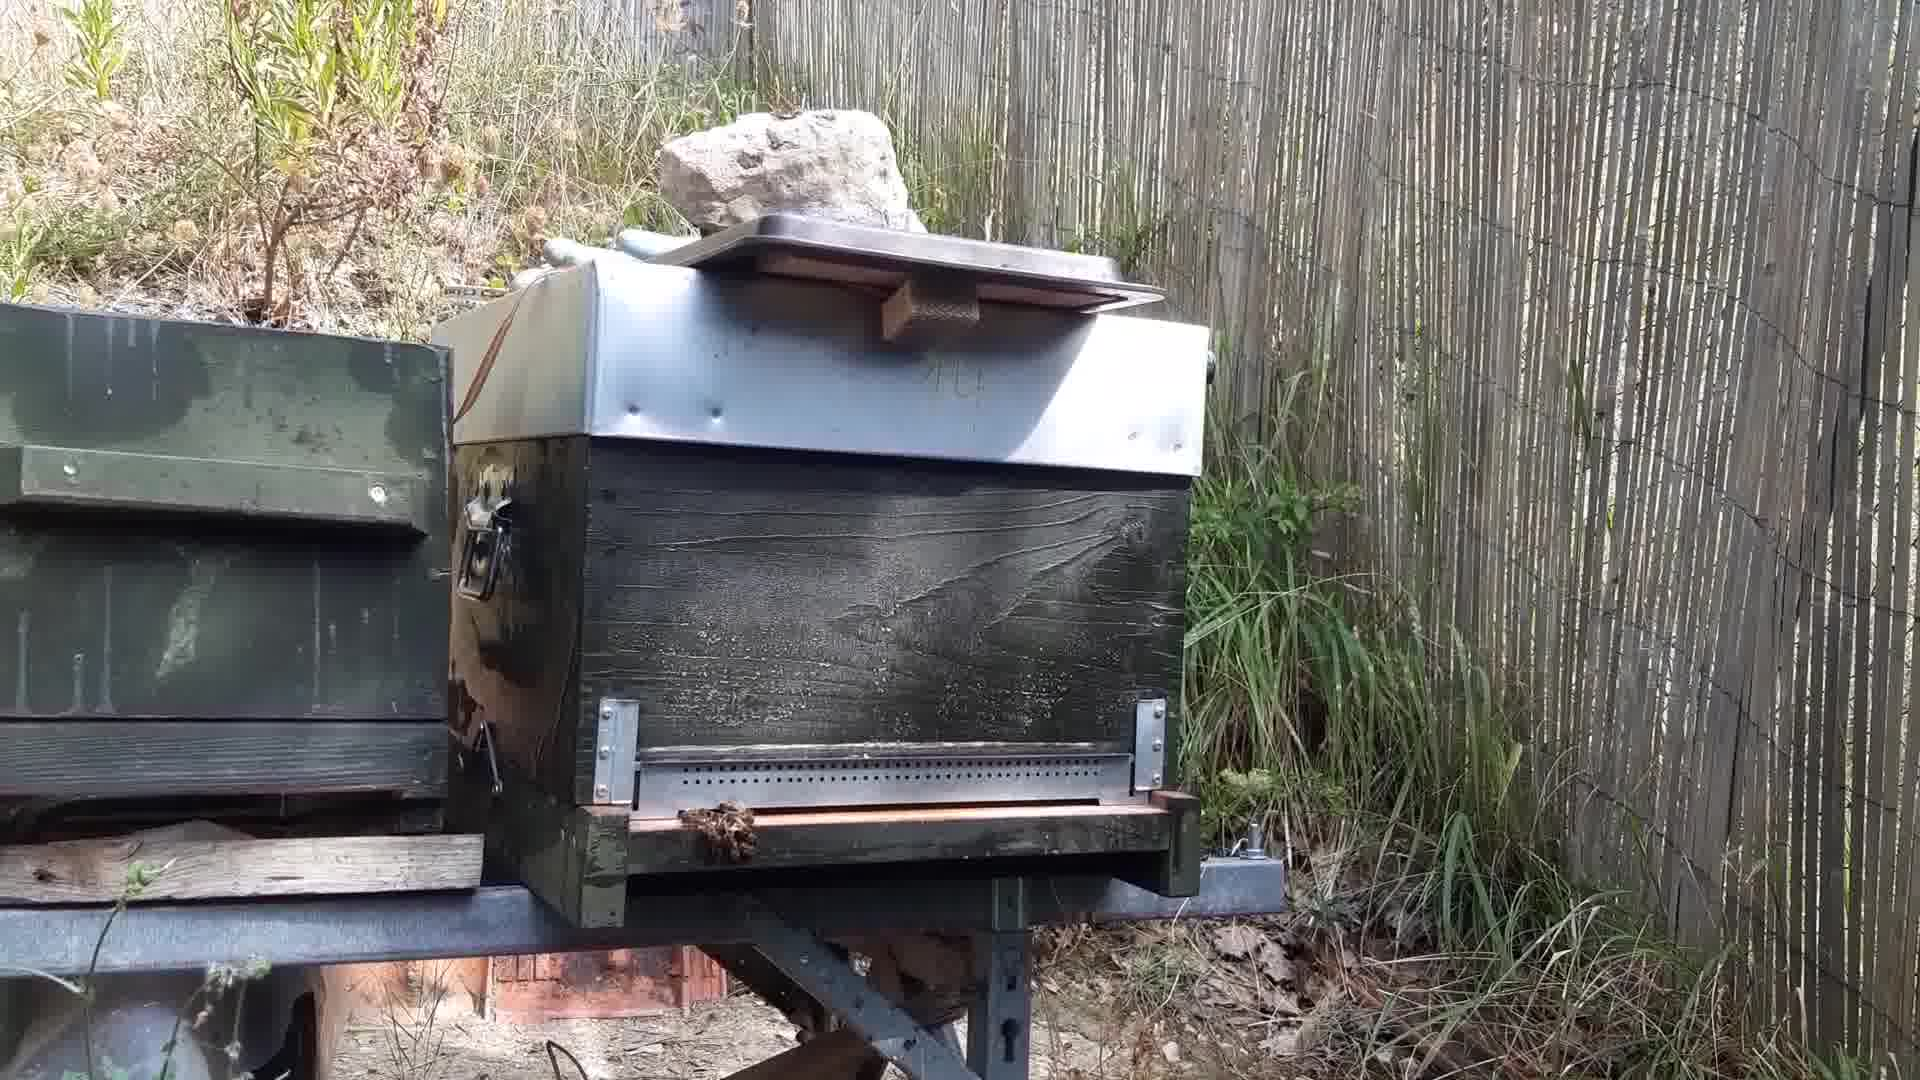bee: (676, 800, 762, 866)
